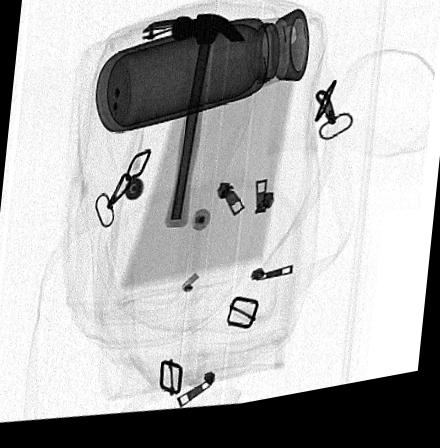Hammer: (164, 20, 247, 234)
